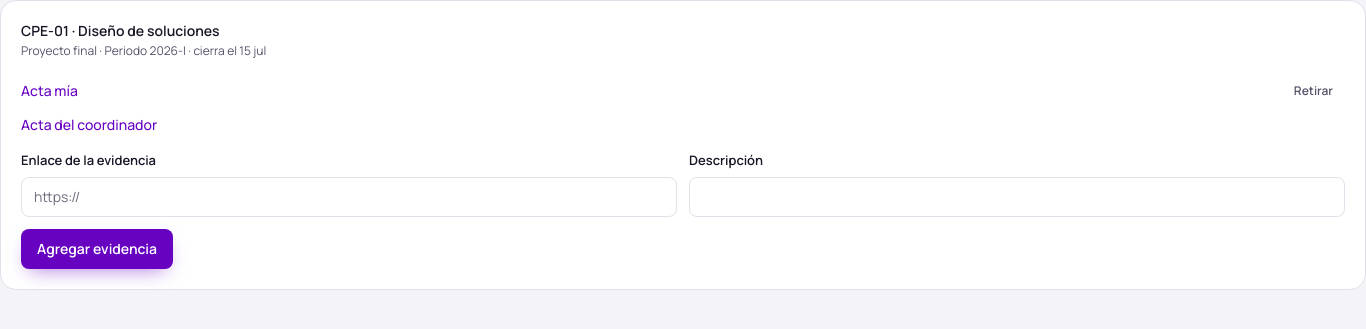
TarjetaEvaluacion — agregar › un enlace que no empieza por http:// o https:// no se envía
Type "javascript:alert(1)" into the field labelled "Enlace de la evidencia" at (349,196), box left=21, top=176, right=677, bottom=216
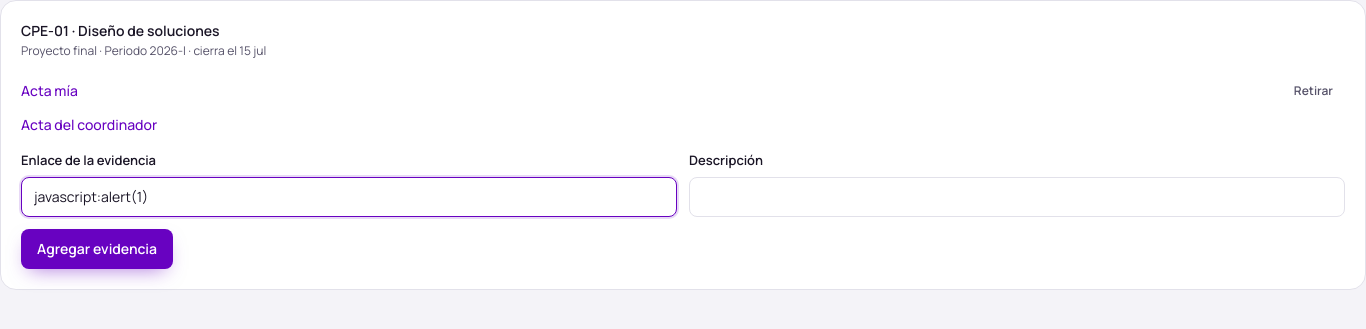
Type "Trampa" into the field labelled "Descripción" at (1017,196), box left=689, top=176, right=1345, bottom=216
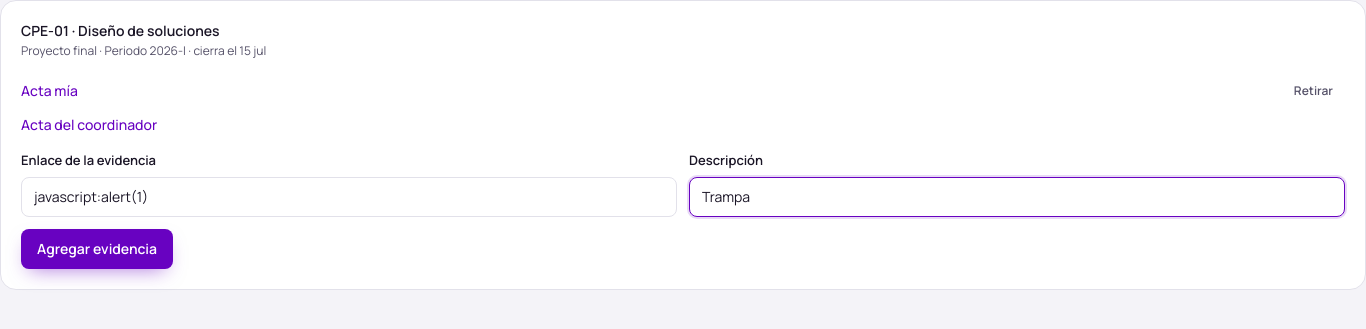
Click the button "Agregar evidencia" at (97,248), box left=21, top=228, right=173, bottom=268
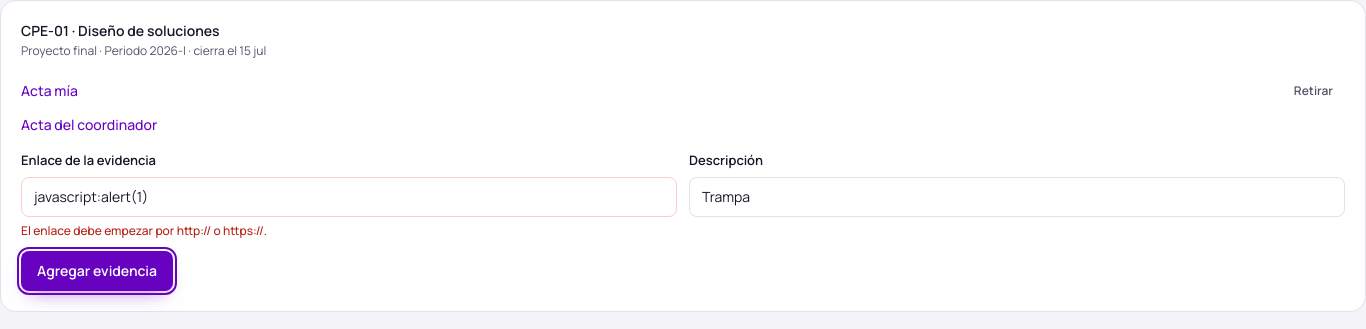
Result: the text "El enlace debe empezar por http:// o https://." is shown at left=21, top=222, right=267, bottom=238
